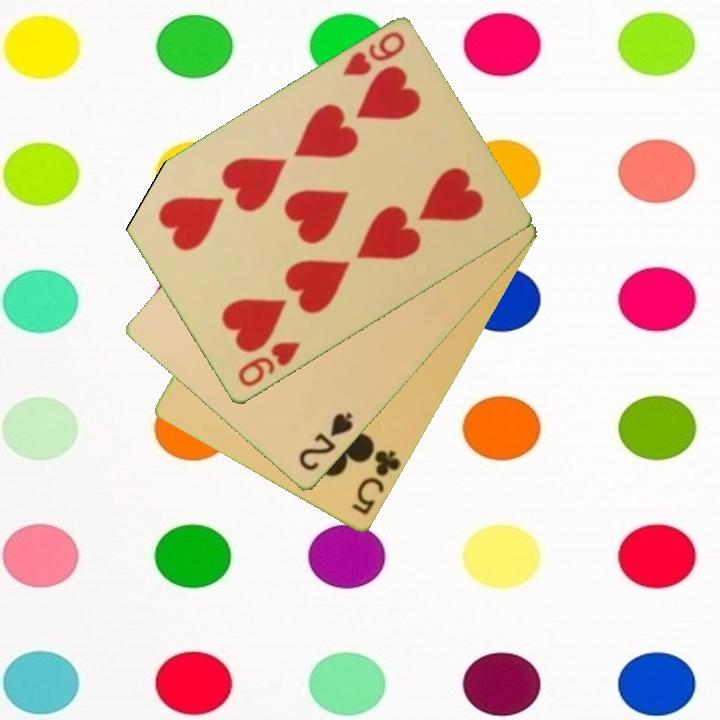2s: (295, 408, 357, 475)
5c: (348, 446, 404, 519)
9h: (234, 338, 303, 390), (339, 28, 408, 80)
